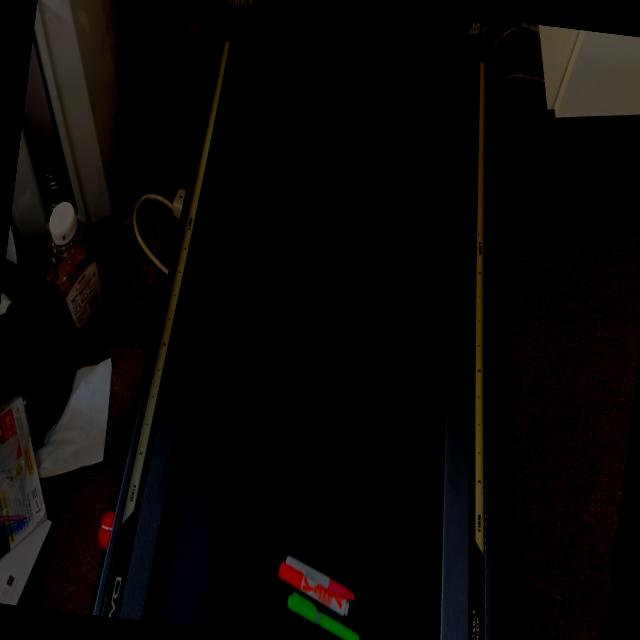Trash: (269, 551, 371, 640)
